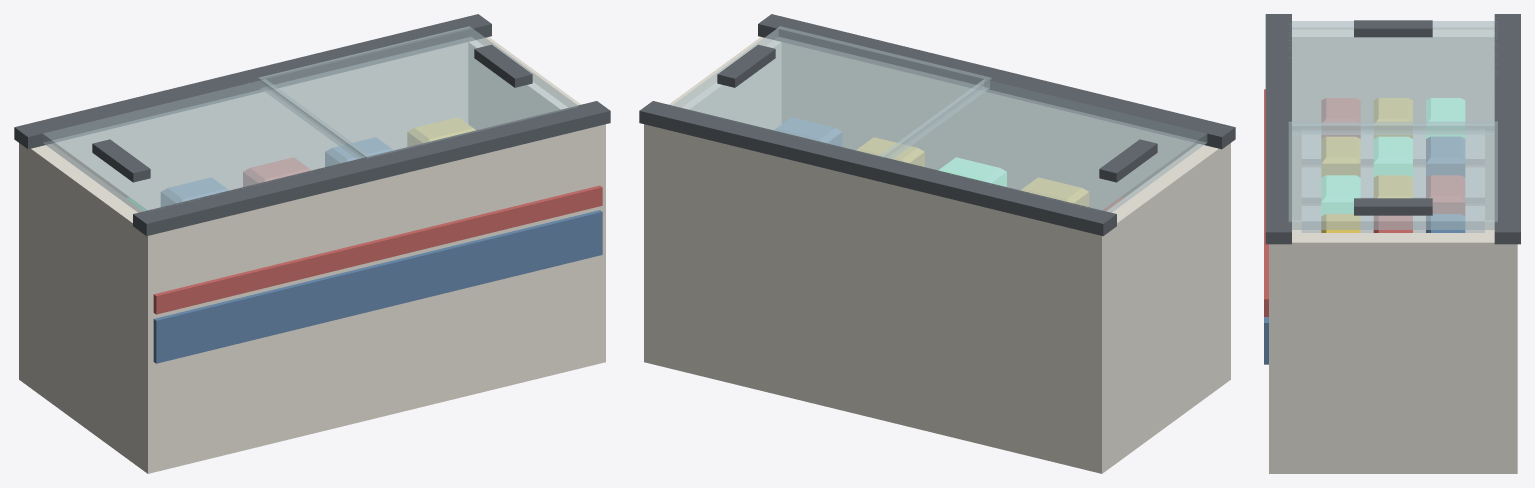
File: sf_icecream_freezer.glb
3 views of the same model, side by side, from view 1: azimuth 30°, elevation 25°; view 2: azimuth 150°, elevation 25°; view 3: azimuth 270°, elevation 25° (orthographic). The views are drawn at different scales.
Visible parts, largest first — view 1: IceCreamFreezerPure3D_Root, IceCreamFreezerPure3D_Anim; view 2: IceCreamFreezerPure3D_Root, IceCreamFreezerPure3D_Anim; view 3: IceCreamFreezerPure3D_Root, IceCreamFreezerPure3D_Anim.
Boxes of the visible parts, x1,y1,x2,y2 form: IceCreamFreezerPure3D_Root: [14, 14, 610, 473]; IceCreamFreezerPure3D_Anim: [258, 26, 577, 158]; IceCreamFreezerPure3D_Root: [639, 14, 1235, 473]; IceCreamFreezerPure3D_Anim: [672, 26, 991, 158]; IceCreamFreezerPure3D_Root: [1264, 14, 1520, 473]; IceCreamFreezerPure3D_Anim: [1288, 121, 1497, 229].
Size of the model in its own units: 1.58 by 0.855 by 0.785.
